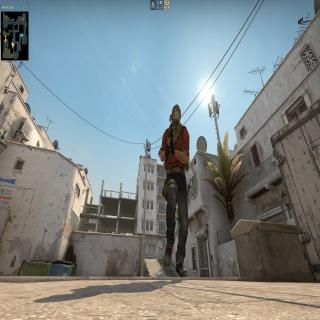T-Head: (169, 102, 183, 128)
